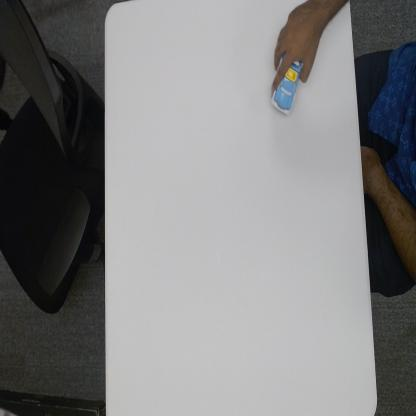Car: (270, 55, 302, 117)
Hand: (270, 0, 330, 96)
